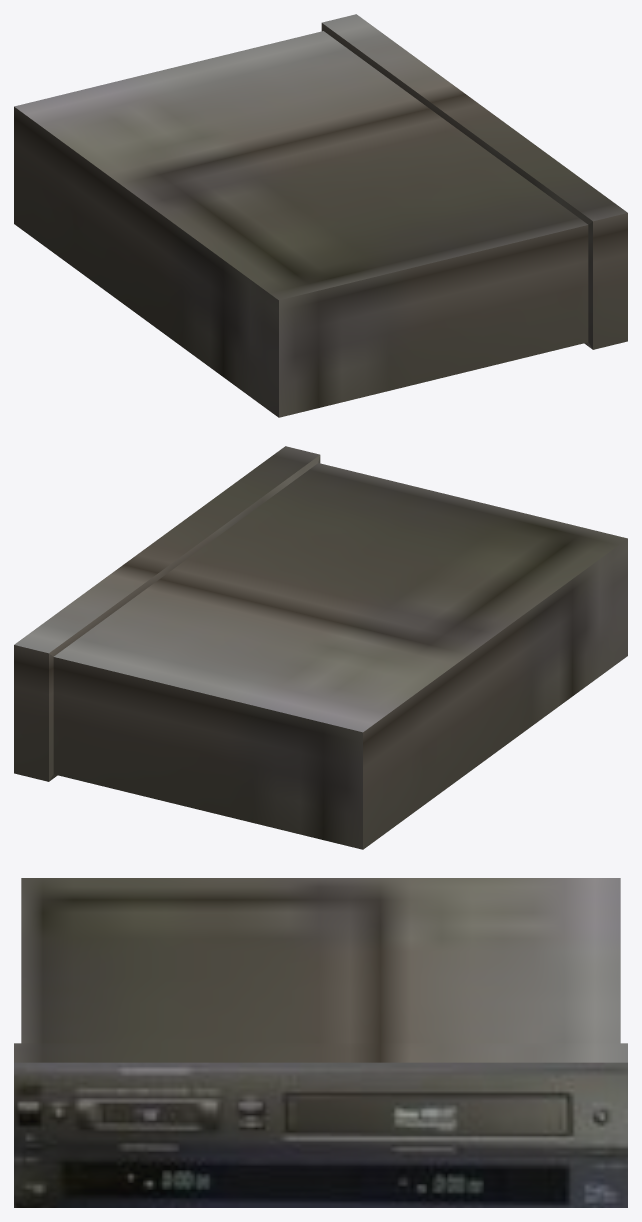
The model's file is Video_player_01-col.glb.
3 views of the same model, one above another, from view 1: azimuth 30°, elevation 25°; view 2: azimuth 150°, elevation 25°; view 3: azimuth 270°, elevation 25° (orthographic). The views are drawn at different scales.
Visible parts, largest first — view 1: Video_player_01-col; view 2: Video_player_01-col; view 3: Video_player_01-col.
Part boxes in pixels (x1=…): Video_player_01-col: x1=14, y1=14, x2=627, y2=417; Video_player_01-col: x1=14, y1=446, x2=627, y2=849; Video_player_01-col: x1=14, y1=878, x2=627, y2=1207.
Size of the model in its own units: 0.3919 by 0.1392 by 0.5329.
1 material, 1 textured.
